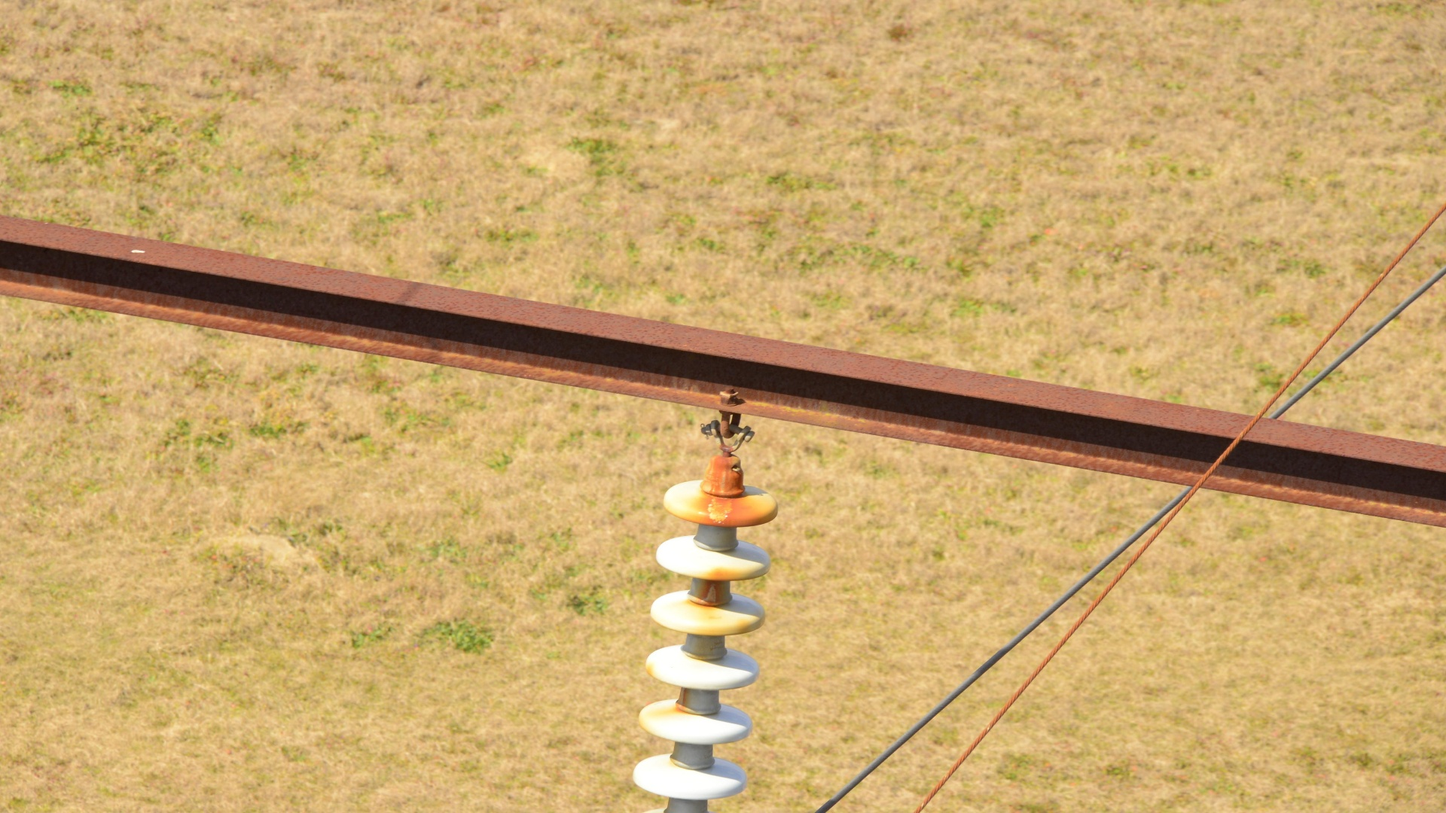insulator: (626, 475, 782, 813)
